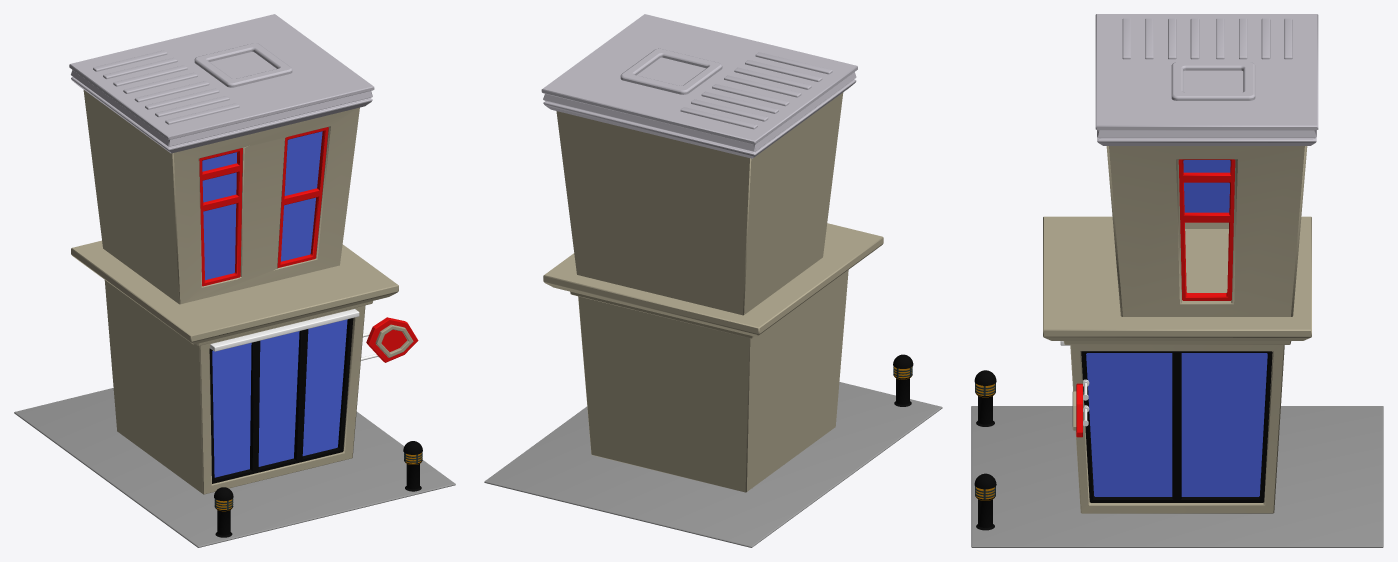
The model's file is firstFloor.fbx.
3 renders of one model, left to right at view 1: azimuth 30°, elevation 25°; view 2: azimuth 150°, elevation 25°; view 3: azimuth 270°, elevation 25°, orthographic. The views are drawn at different scales.
Parts seen in each view (by area): view 1: 房子_obj; view 2: 房子_obj; view 3: 房子_obj.
Part boxes in pixels (x1,y1,x2,y2): 房子_obj: (14,14,455,547); 房子_obj: (484,14,942,547); 房子_obj: (971,14,1383,547).
Bounding box in the file's own units: 357 × 470 × 426.
